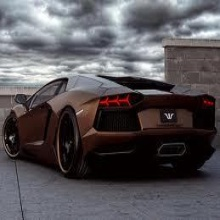no damage: (3, 74, 217, 178)
